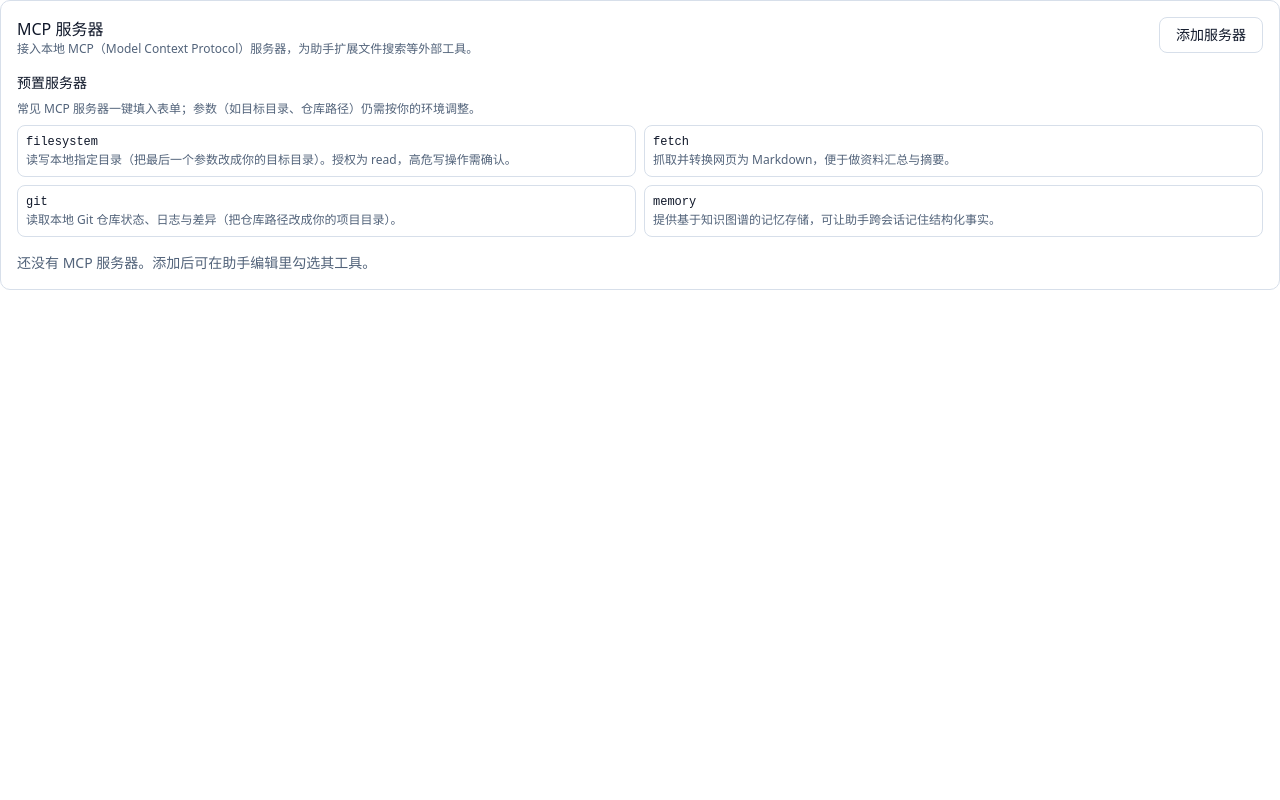
Test: MCP 服务器面板（v0.6 M1） › 空状态与添加入口
Expected: the text "还没有 MCP 服务器。添加后可在助手编辑里勾选其工具。" is shown, [17,253,376,272]
Click the button "添加服务器": (1211, 35) [1159,17,1263,53]
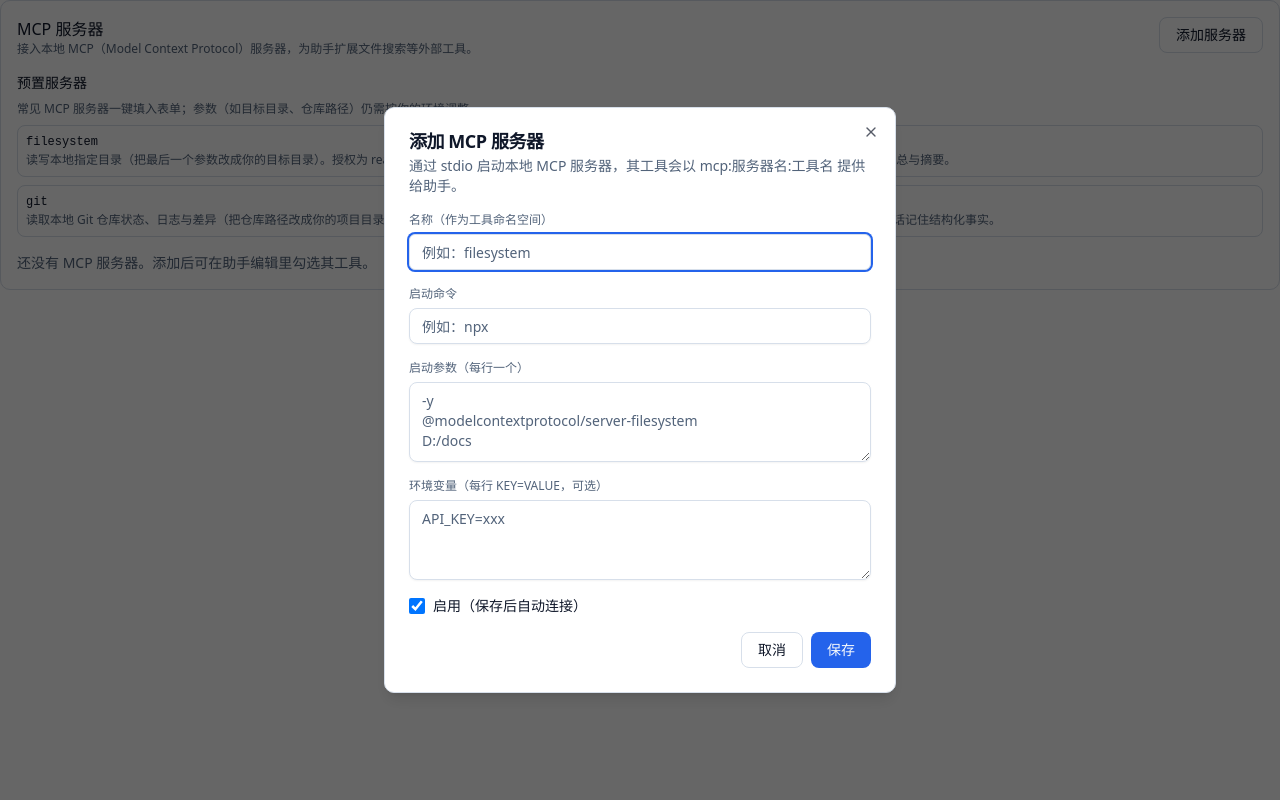
Expected: the heading "添加 MCP 服务器" is shown, [409,129,544,153]
